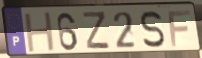2: (112, 11, 137, 51)
6: (56, 11, 79, 53)
F: (166, 9, 192, 48)
H: (22, 10, 58, 54)
S: (139, 9, 167, 49)
Z: (81, 10, 111, 51)
